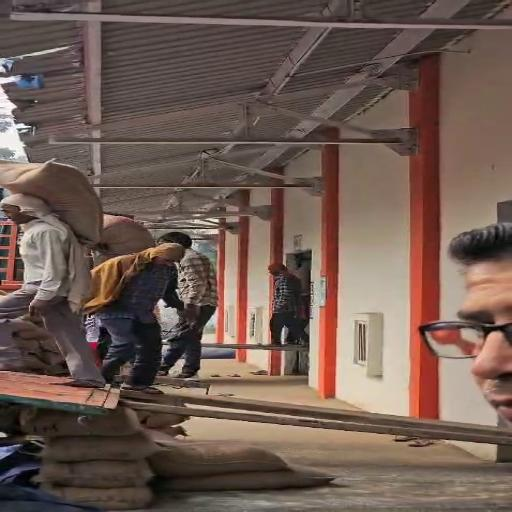bag: (0, 152, 119, 247)
